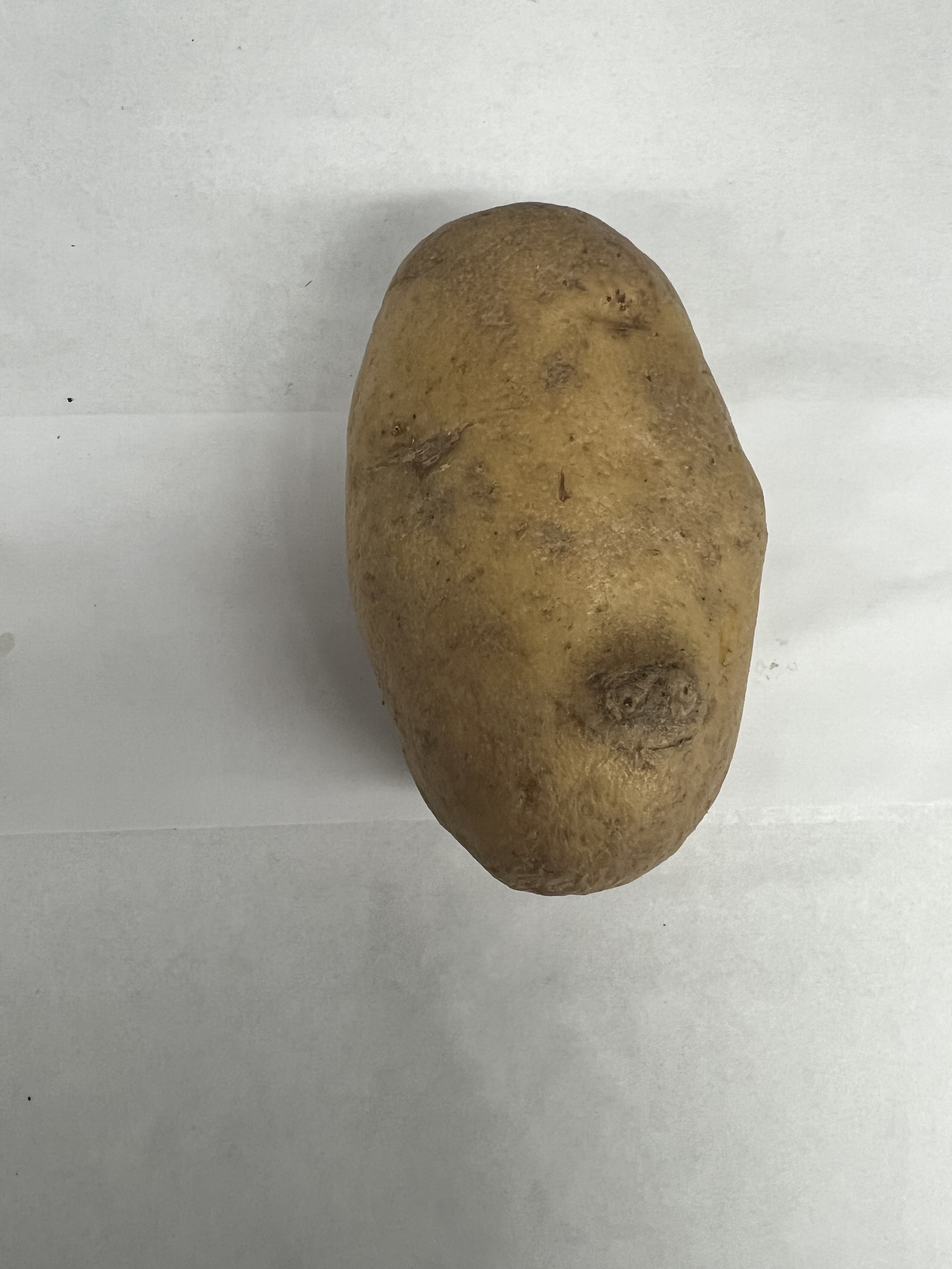produce: (335, 199, 776, 903)
